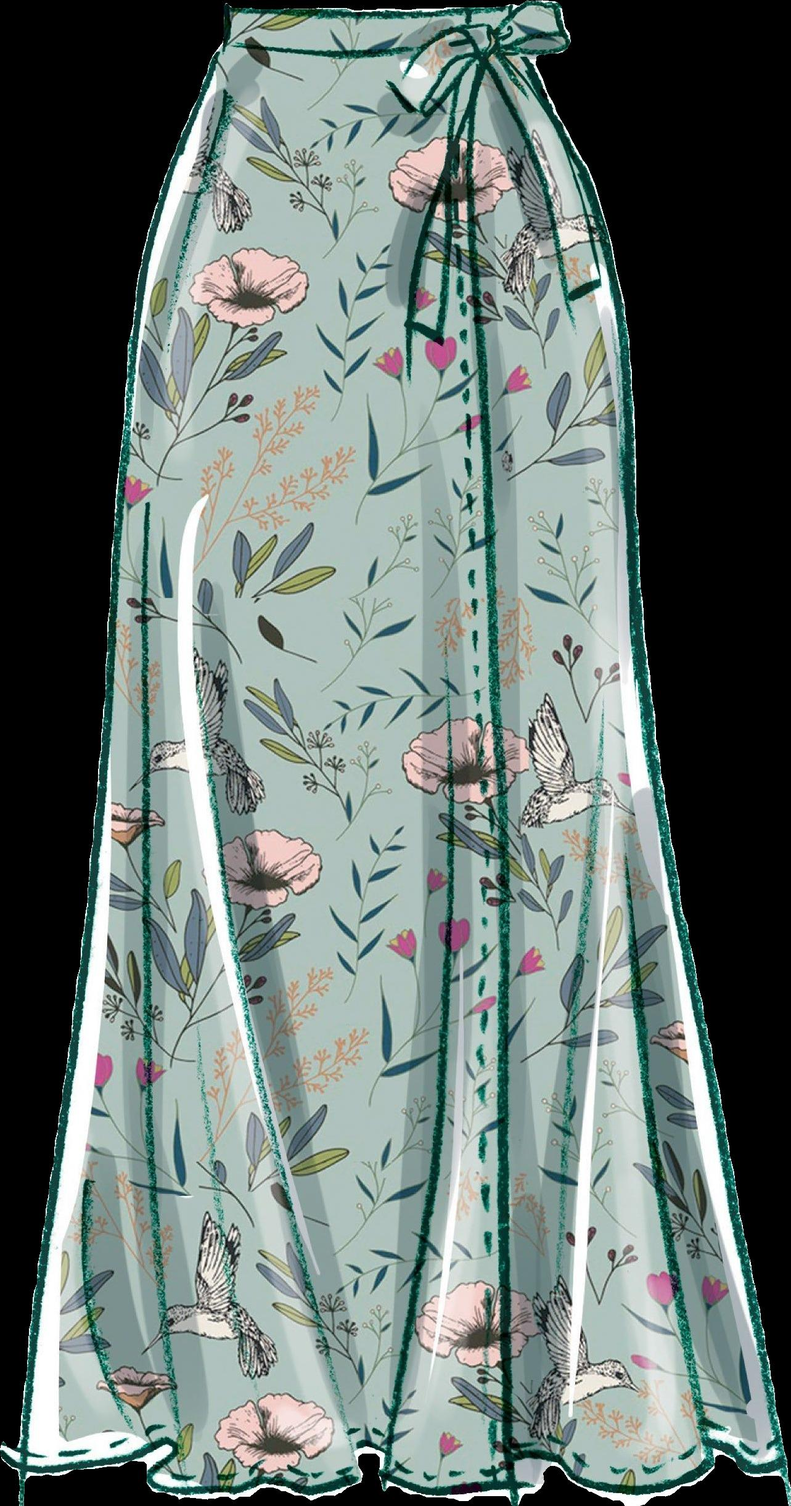Hemline: (12, 1435, 790, 1500)
Waistline: (218, 36, 529, 65), (223, 0, 529, 27)
